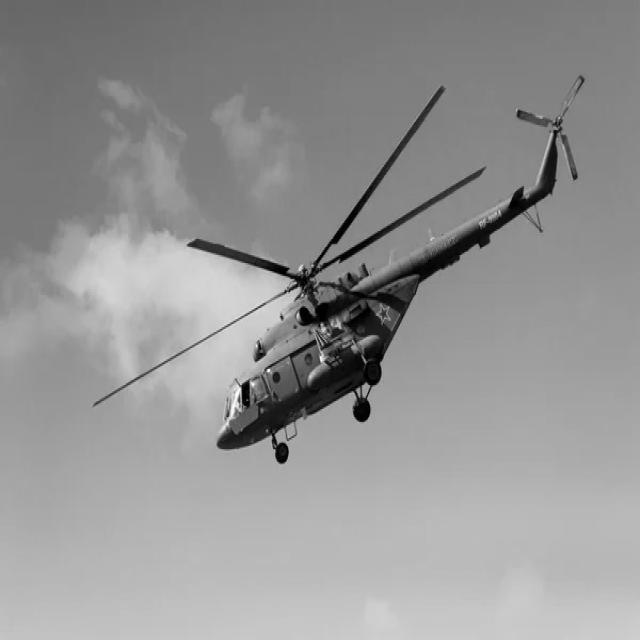Helicopter: (188, 76, 586, 464)
